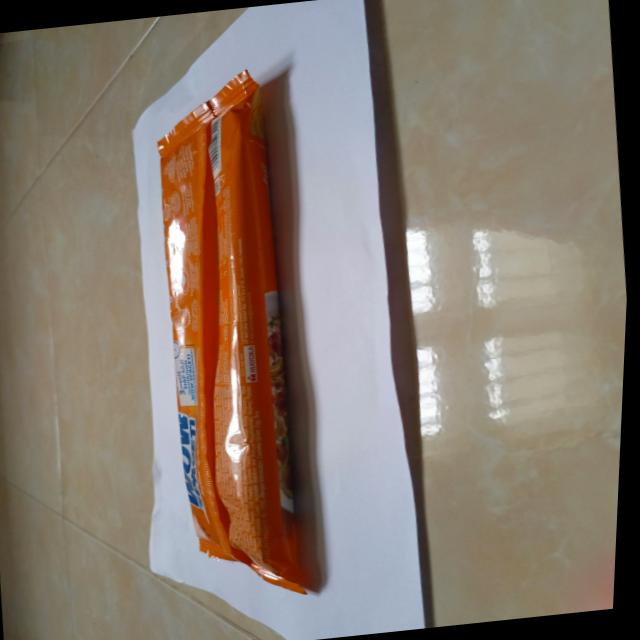indomie-tori-miso: (133, 63, 343, 606)
